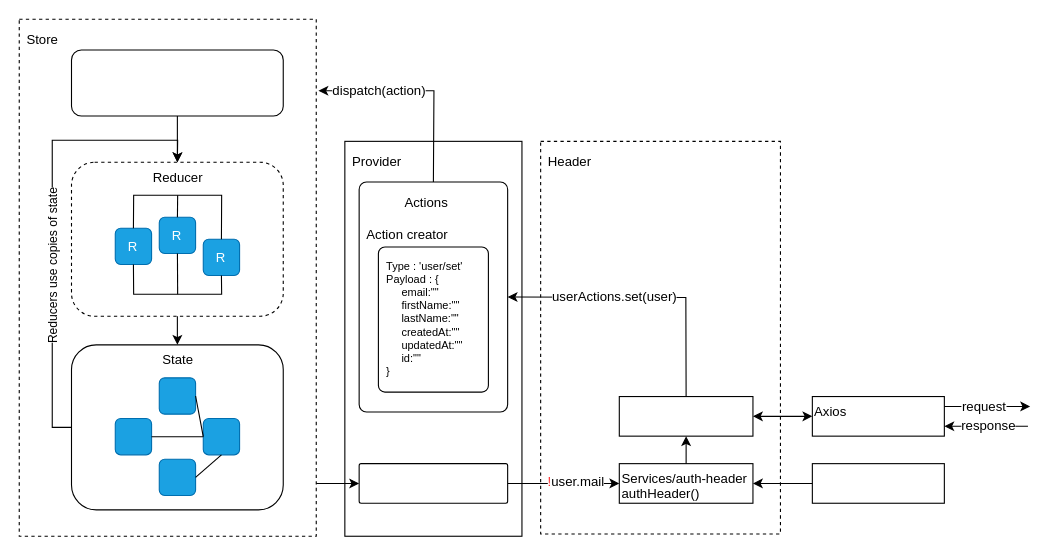
Some shapes in this 1058 by 556 pixel diagram are drawn without their labels. Each missing label, with the centre of its shape:
"Dispatcher" goes at (176,82).
"localStorage || sessionStorage" goes at (877,483).
"Selectors useSelector(selectUser)" goes at (433,483).
"Services/user.service userAccess(token)" goes at (685,415).
